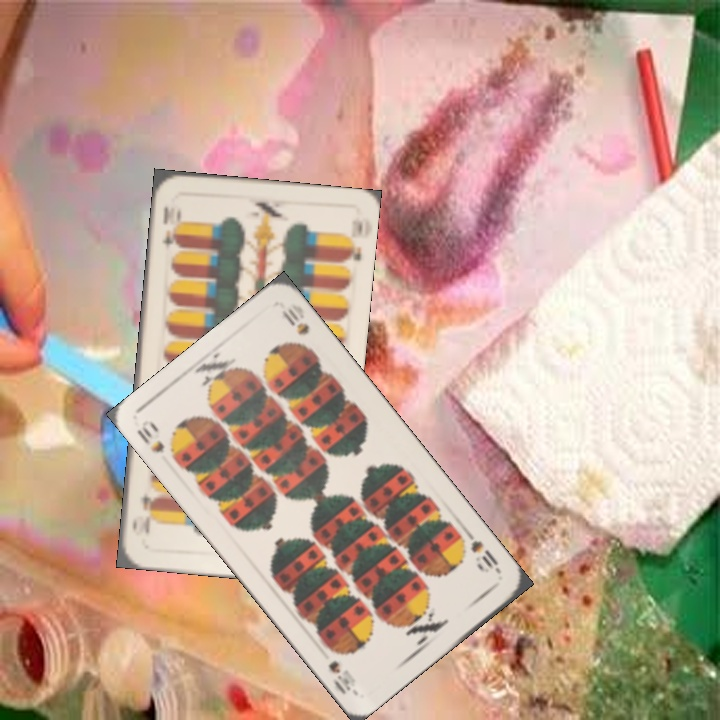E10: (158, 202, 181, 254)
S10: (132, 415, 180, 464), (461, 527, 505, 577)
